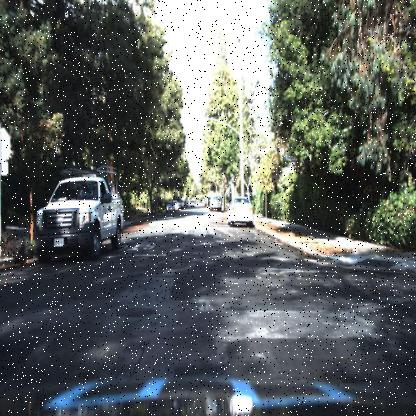car: (22, 148, 134, 274), (226, 191, 257, 231), (207, 186, 226, 215), (162, 197, 177, 215), (164, 199, 175, 214), (188, 197, 198, 208)
